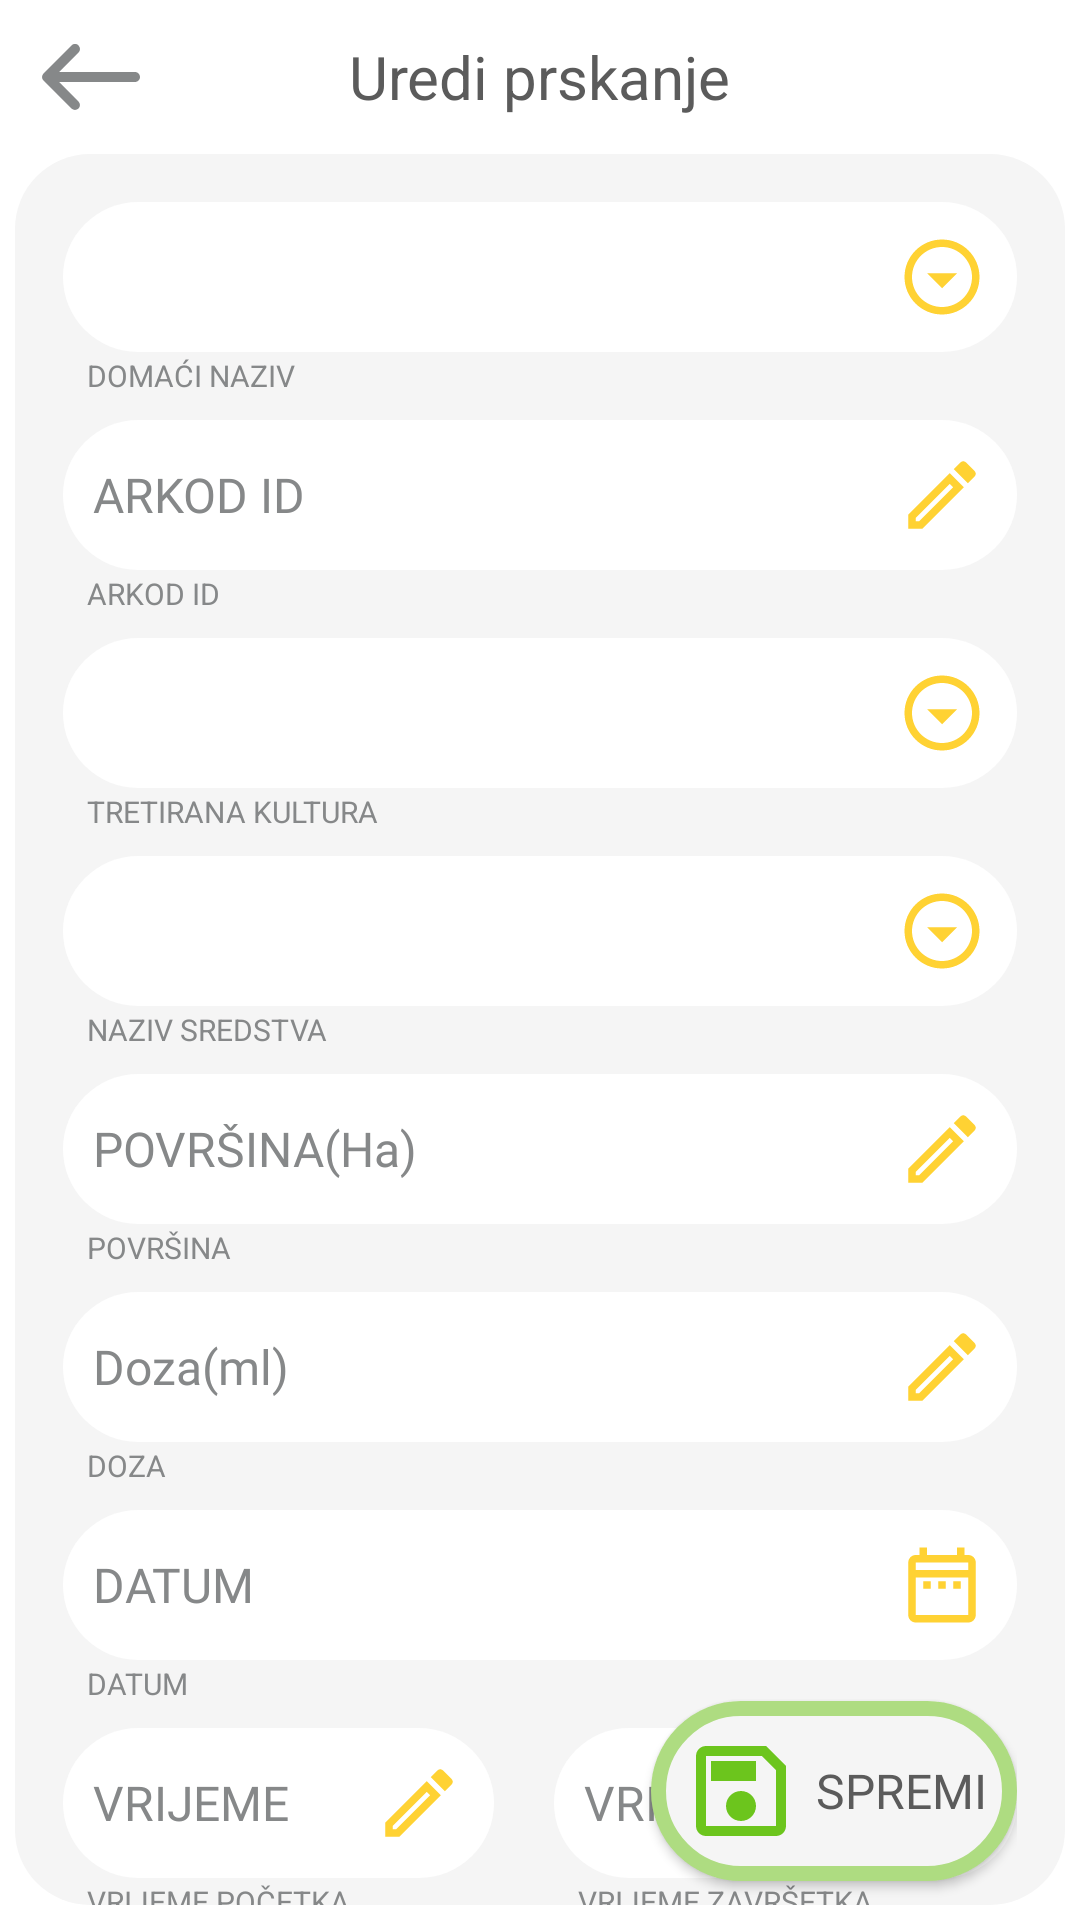

Screen size 1080 x 1920. Icon name, then its box in pixels as (x1, y1, x2, y2):
arrow: (42, 44, 140, 110)
